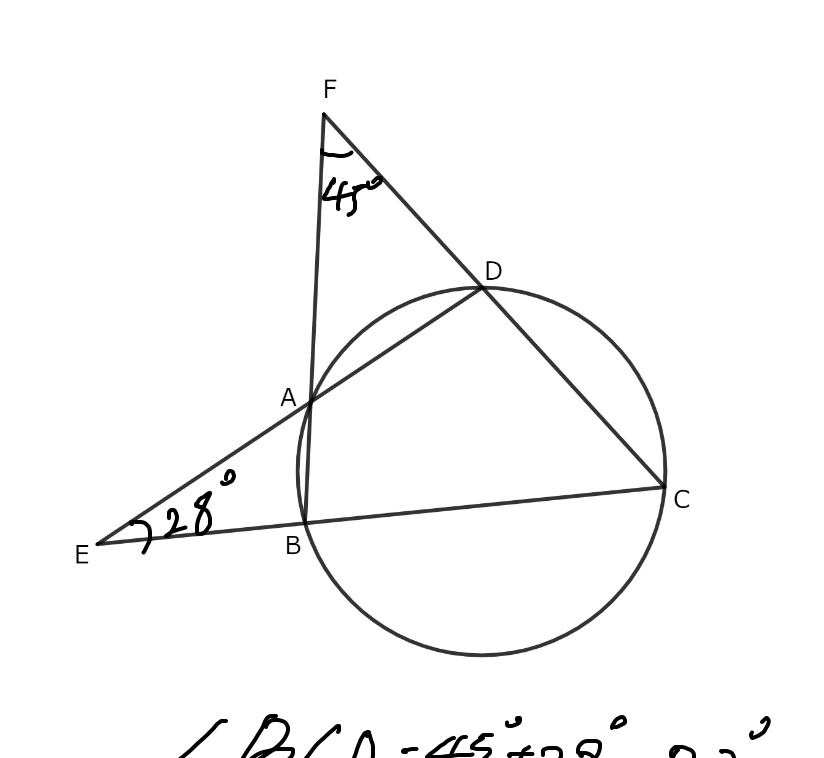Angle_Scurve: (122, 513, 155, 556), (312, 140, 359, 166)
